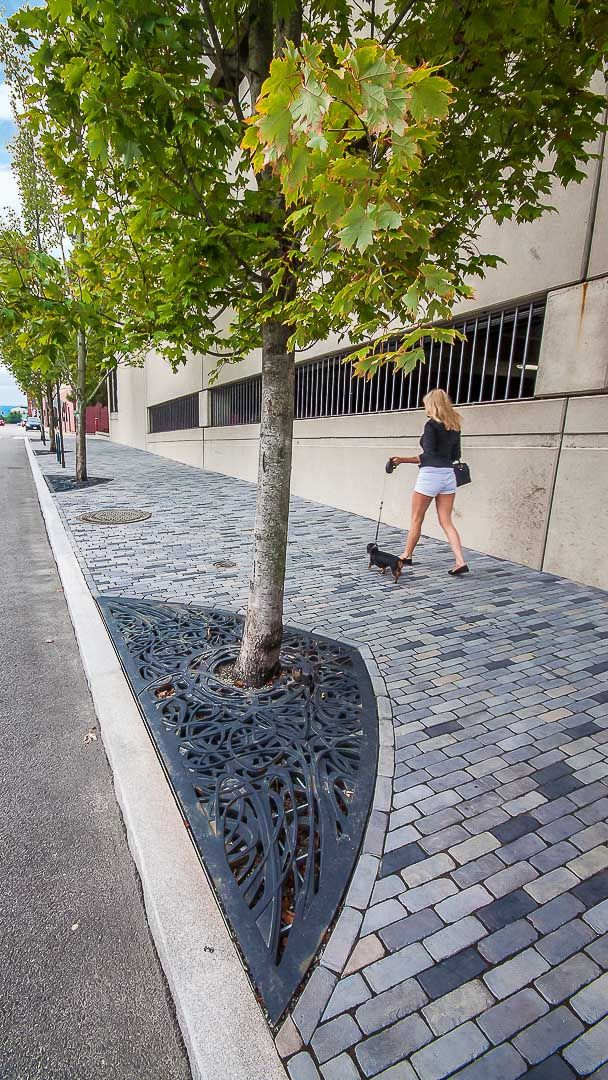tree: (3, 1, 608, 687)
